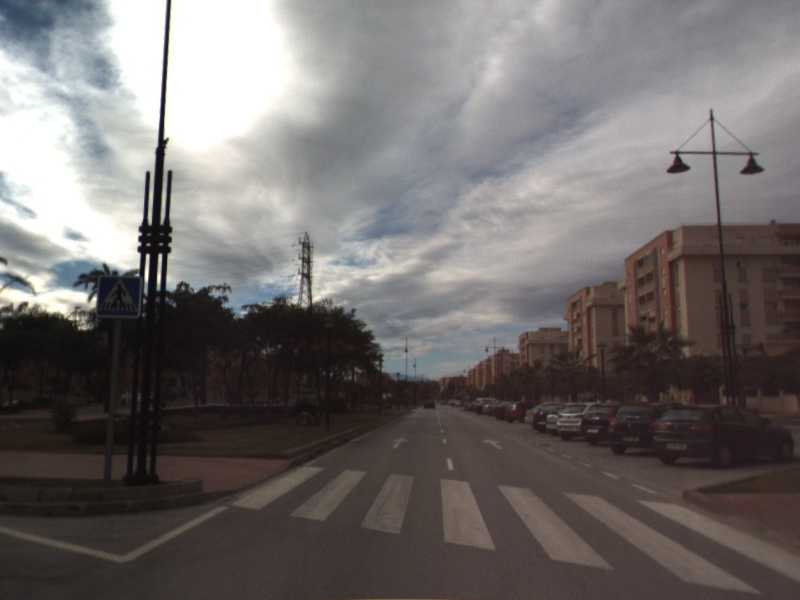STRAIGHT: (481, 437, 506, 451), (389, 435, 411, 450)
